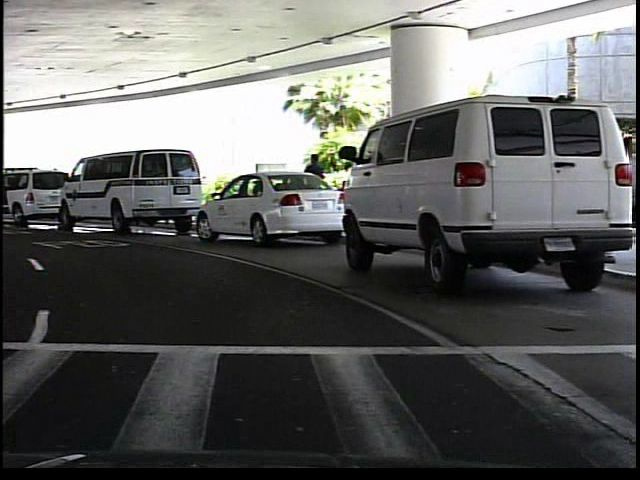person: (301, 150, 330, 226)
